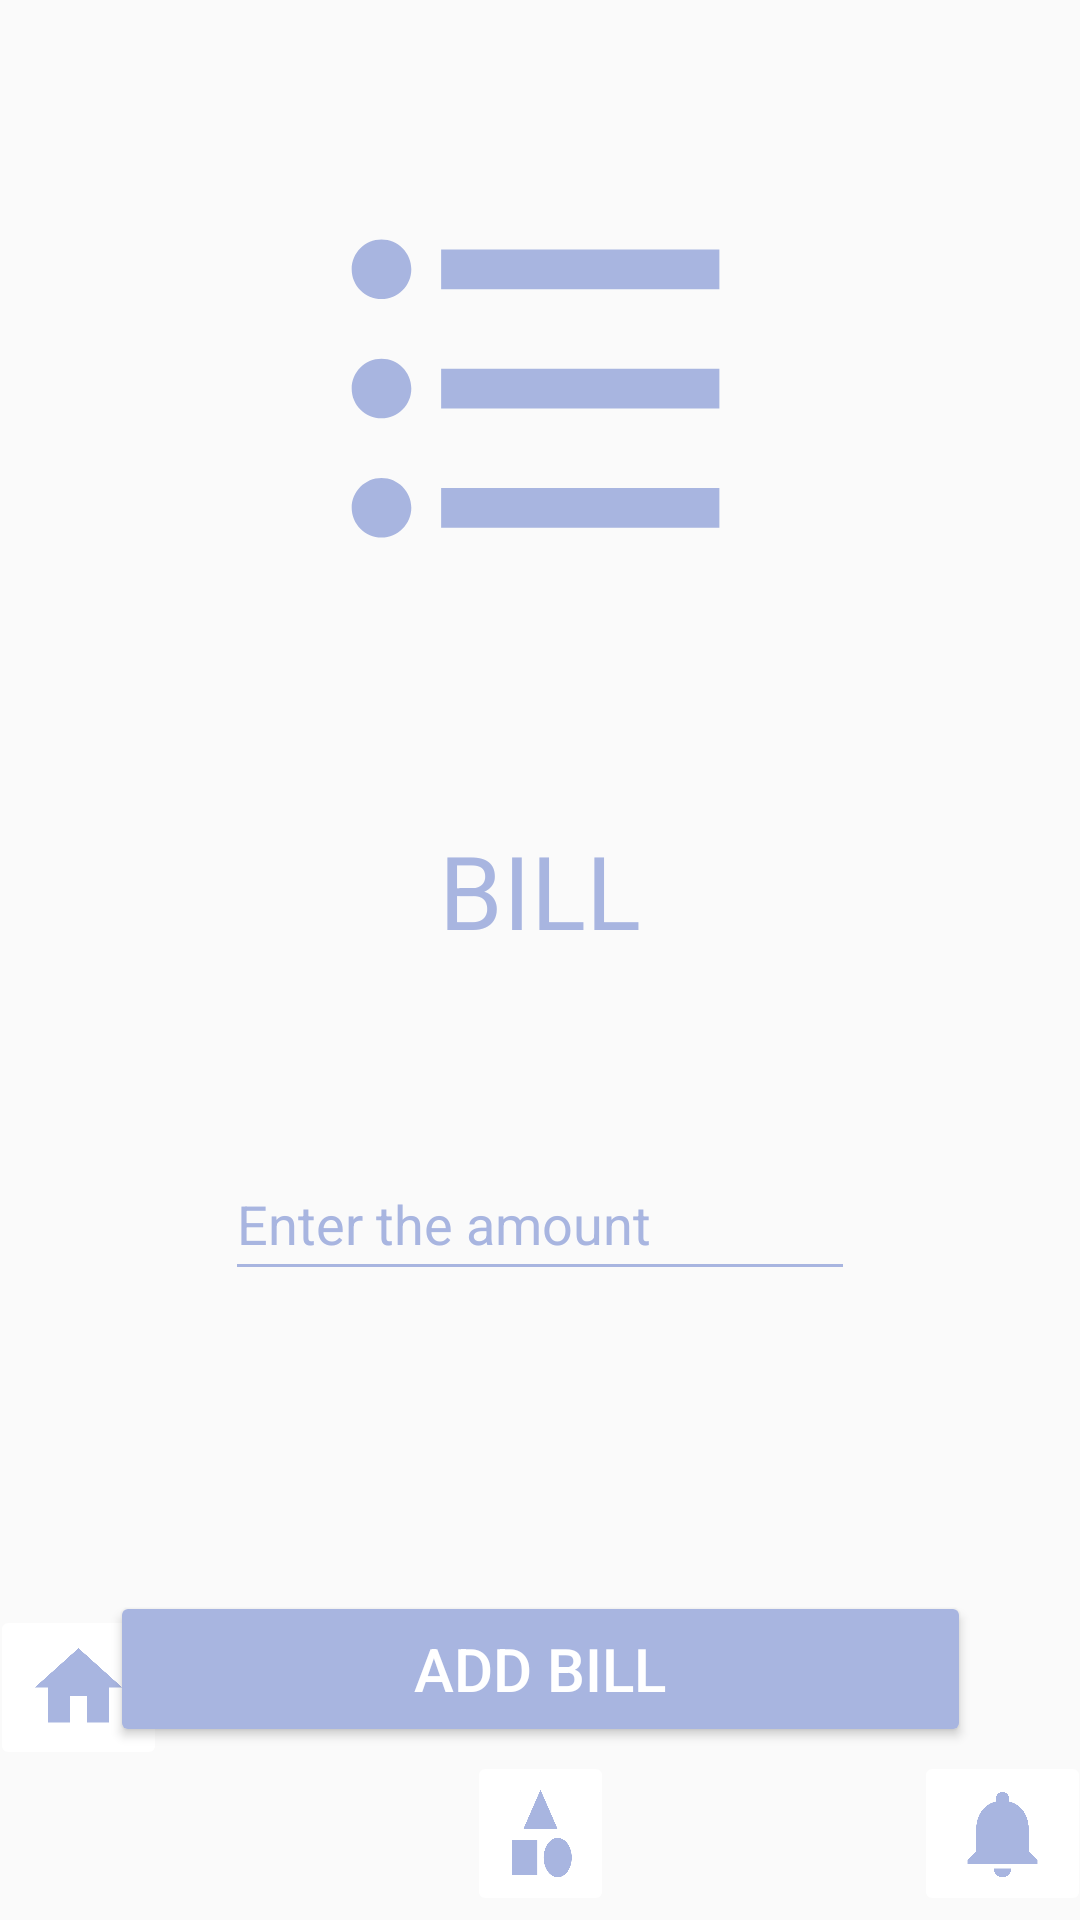

Icon click points for this 1080px×1920px phone screenshot, format [x,y]:
CATEGORY: [542,1833]
NOTIFICATION: [1002,1834]
